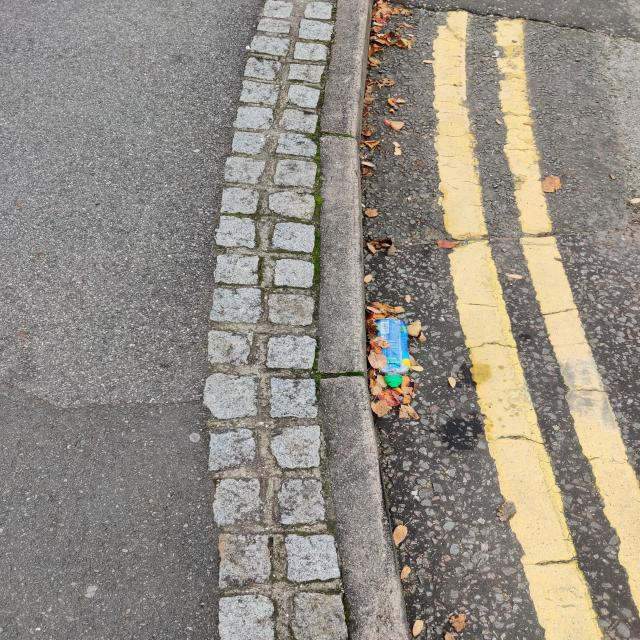litter: (368, 317, 413, 389)
